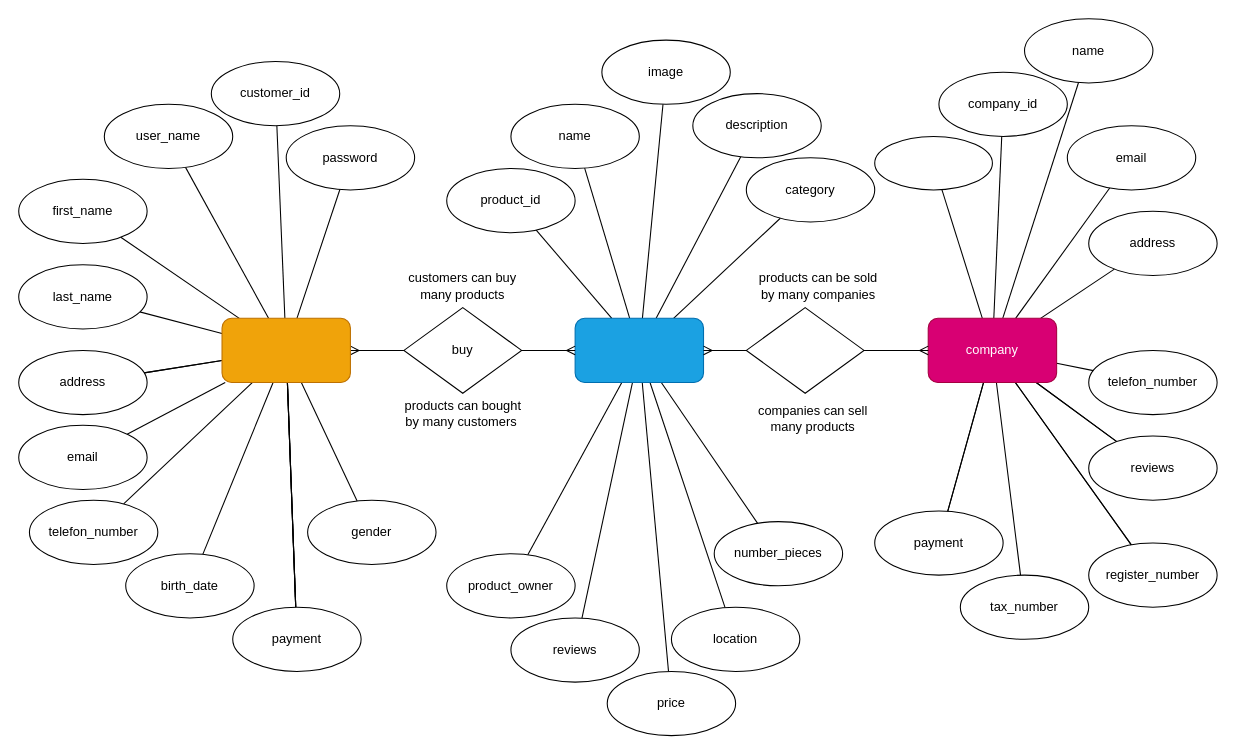
The diagram is 1236 pixels wide and 754 high, and some of its shapes have lost their labels. The box of each missing label's shape, as (x1, y1, x2, y2) in pixels:
customer: (221, 317, 350, 383)
product: (574, 317, 704, 383)
sell: (745, 307, 864, 393)
shipping: (874, 135, 992, 190)
